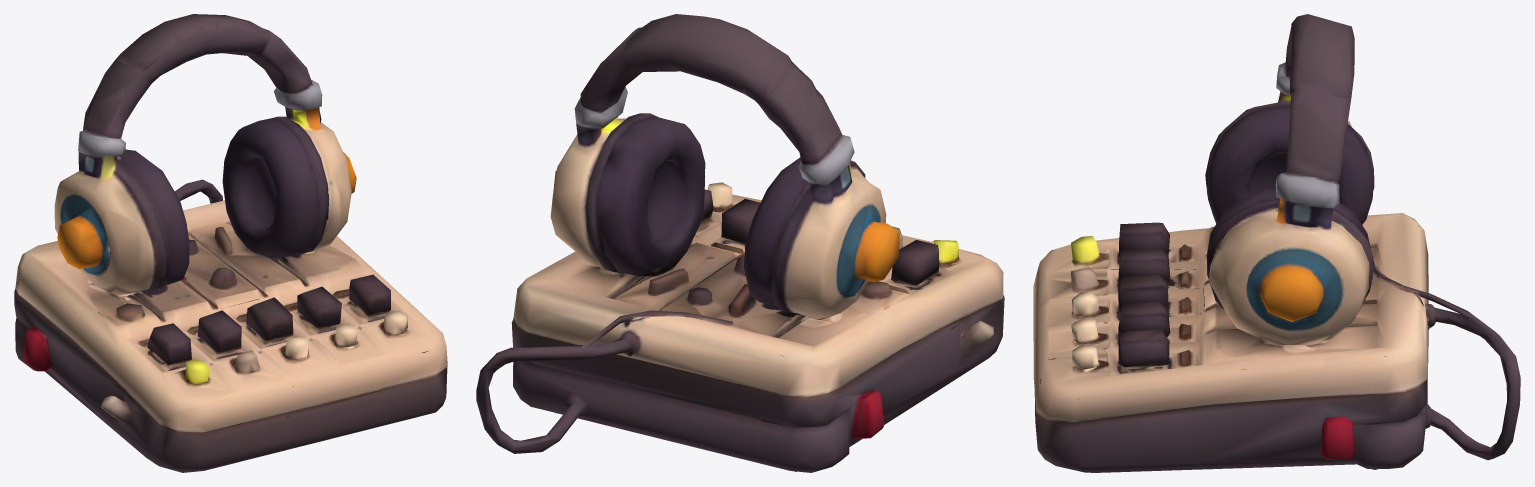
File: mixer.glb
3 renders of one model, left to right at view 1: azimuth 30°, elevation 25°; view 2: azimuth 150°, elevation 25°; view 3: azimuth 270°, elevation 25°, orthographic. The views are drawn at different scales.
Parts seen in each view (by area): view 1: low; view 2: low; view 3: low.
Boxes of the visible parts, x1=… form: low: x1=14, y1=14, x2=447, y2=472; low: x1=476, y1=14, x2=1004, y2=472; low: x1=1033, y1=14, x2=1520, y2=472.
Size of the model in its own units: 0.8351 by 0.8512 by 0.9803.
Materials: 1 (1 with a texture image).
